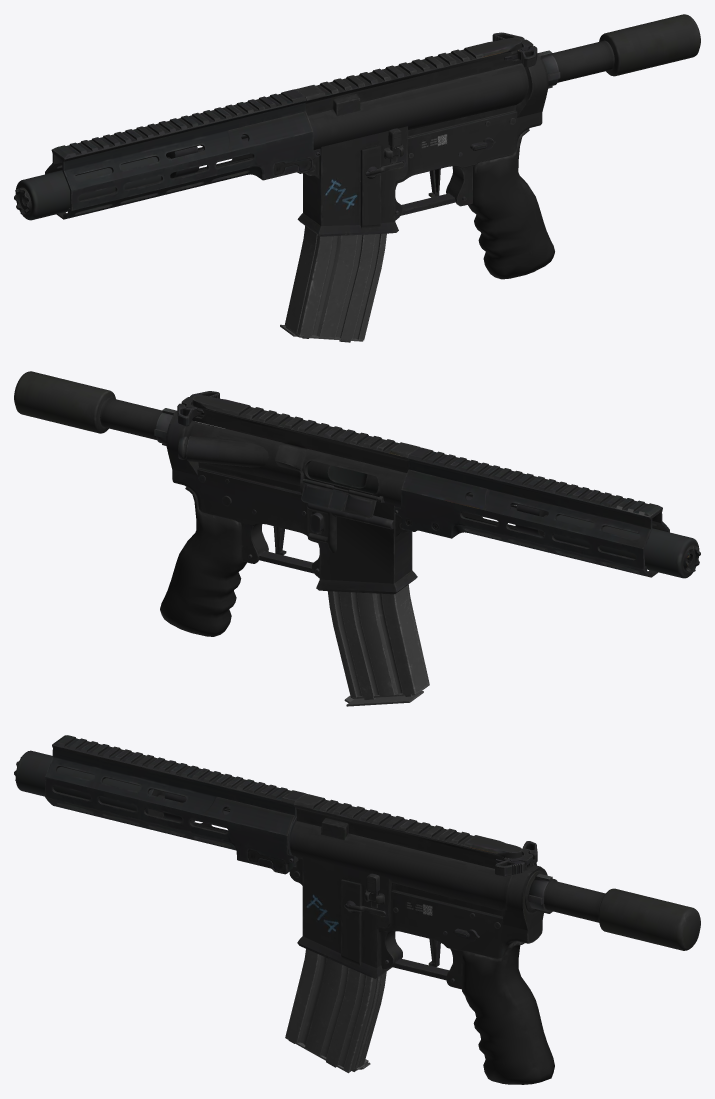
File: weapon_ar15c.glb
The picture shows the model from 3 angles, top to bottom: view 1: azimuth 30°, elevation 25°; view 2: azimuth 150°, elevation 25°; view 3: azimuth 330°, elevation 25°; orthographic projection.
Visible parts, largest first — view 1: bolt_ar15c, rail_ar15c, magazine_ar15c, grip_ar15c, stock_ar15c, barrel_ar15c, reloader_ar15c; view 2: bolt_ar15c, rail_ar15c, magazine_ar15c, grip_ar15c, stock_ar15c, barrel_ar15c, reloader_ar15c; view 3: bolt_ar15c, rail_ar15c, grip_ar15c, magazine_ar15c, stock_ar15c, barrel_ar15c, reloader_ar15c.
Part boxes in pixels (x1,y1,x2,y2): bolt_ar15c: (295, 37, 548, 236); rail_ar15c: (45, 89, 320, 219); magazine_ar15c: (280, 226, 386, 342); grip_ar15c: (468, 129, 554, 279); stock_ar15c: (538, 14, 700, 88); barrel_ar15c: (14, 135, 251, 220); reloader_ar15c: (492, 32, 537, 67); bolt_ar15c: (166, 395, 419, 594); rail_ar15c: (394, 447, 669, 577); magazine_ar15c: (327, 584, 429, 706); grip_ar15c: (160, 487, 246, 636); stock_ar15c: (14, 371, 176, 445); barrel_ar15c: (463, 493, 700, 578); reloader_ar15c: (177, 391, 219, 426); bolt_ar15c: (289, 793, 547, 989); rail_ar15c: (45, 735, 305, 874); grip_ar15c: (462, 941, 554, 1084); magazine_ar15c: (285, 949, 386, 1073); stock_ar15c: (528, 873, 700, 950); barrel_ar15c: (14, 750, 230, 827); reloader_ar15c: (495, 841, 537, 876).
Size of the model in its own units: 76.96 by 28.51 by 8.01.
Materials: 2 (2 with a texture image).
